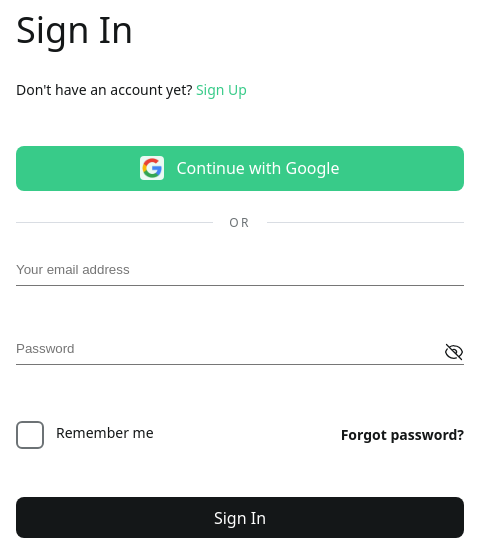
Test: Feature: LoginForm › should show validation errors when submitted empty
Click the button "Sign In".
click(240, 518)  # box [16, 497, 464, 538]
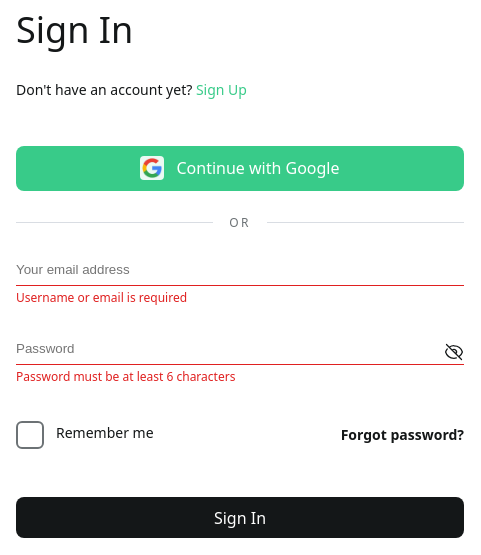
Expected: the text "Username or email is required" is shown, [16, 289, 187, 306]
Expected: the text "Password must be at least 6 characters" is shown, [16, 368, 235, 385]
